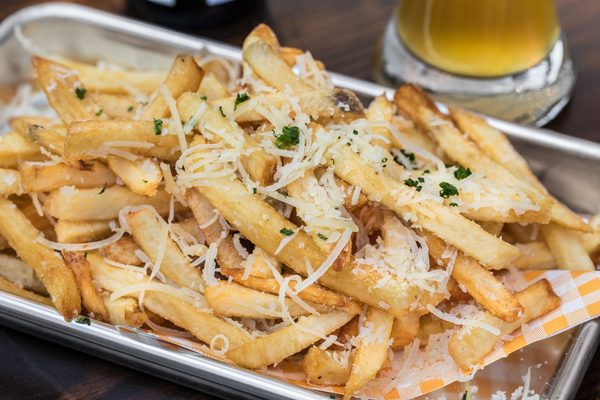pizza: (374, 0, 576, 128)
